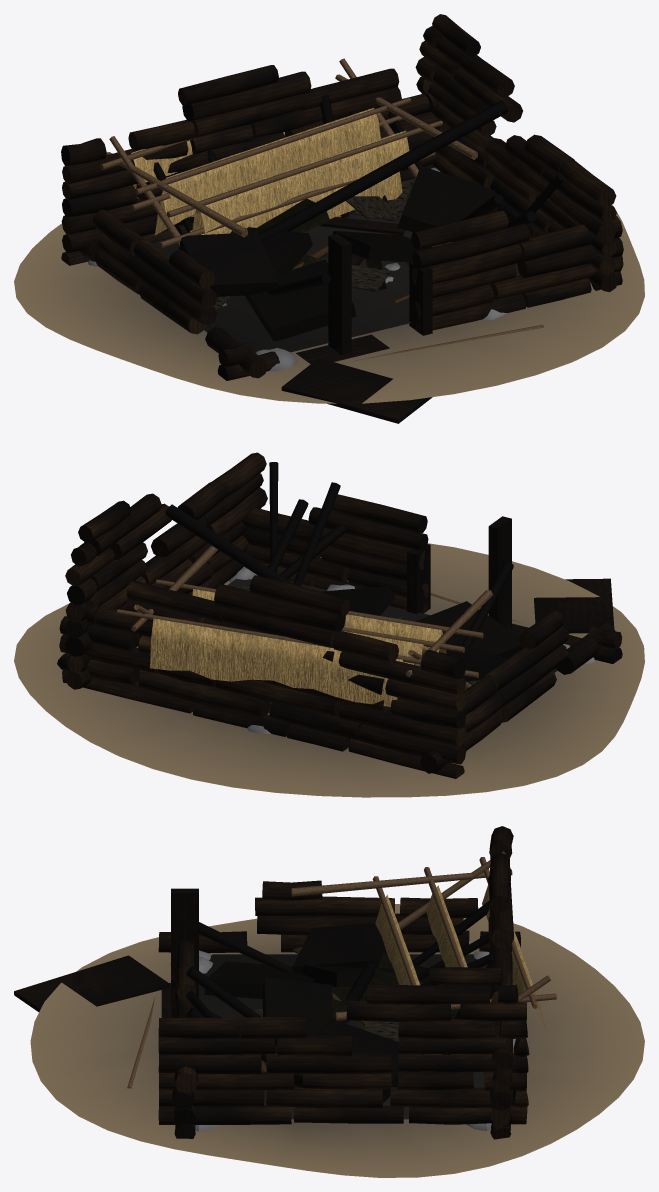
Rendered from lakeruin.glb.
The picture shows the model from 3 angles, top to bottom: view 1: azimuth 30°, elevation 25°; view 2: azimuth 150°, elevation 25°; view 3: azimuth 270°, elevation 25°; orthographic projection.
Parts seen in each view (by area): view 1: mokki_palanut, haasia_kaatunut; view 2: mokki_palanut, haasia_kaatunut; view 3: mokki_palanut, haasia_kaatunut.
Boxes of the visible parts, bbox=[...] form: mokki_palanut: bbox=[14, 14, 644, 423]; haasia_kaatunut: bbox=[100, 58, 543, 362]; mokki_palanut: bbox=[14, 452, 644, 797]; haasia_kaatunut: bbox=[116, 545, 521, 706]; mokki_palanut: bbox=[14, 826, 644, 1177]; haasia_kaatunut: bbox=[127, 851, 556, 1088].
Size of the model in its own units: 6.98 by 2.16 by 6.79.
9 materials, 8 textured.
